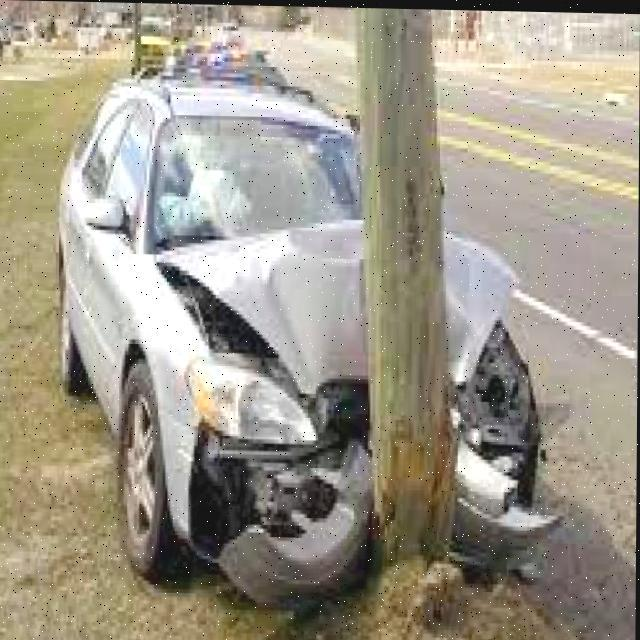single accident: (97, 71, 549, 581)
